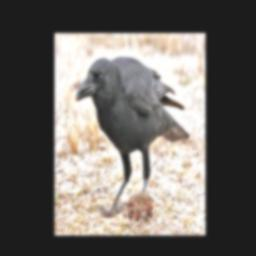Crow: (76, 56, 190, 217)
